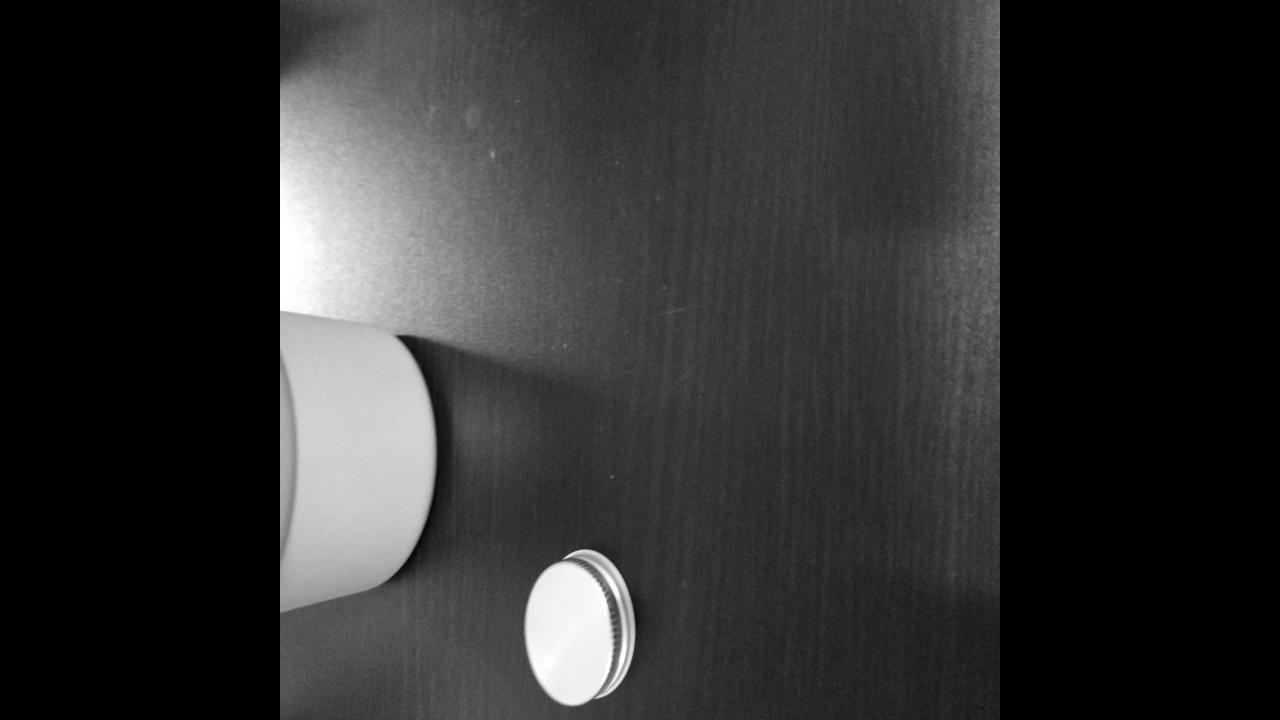bottle_cap: (519, 542, 640, 708)
